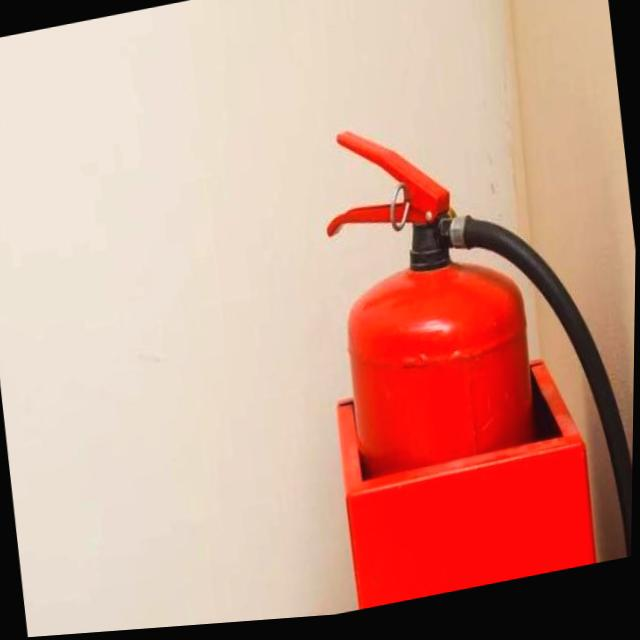FireExtinguisher: (308, 84, 639, 616)
